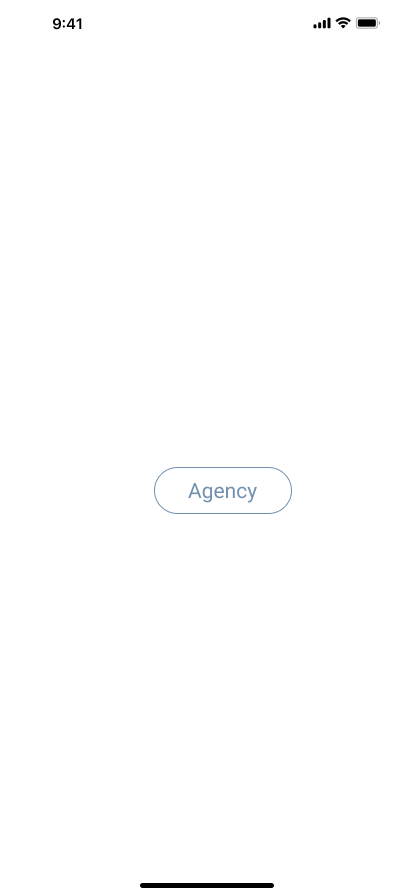Buttons: (154, 467, 300, 514)
Home Indicator: (0, 862, 414, 896)
Status Bar: (0, 0, 414, 44)
